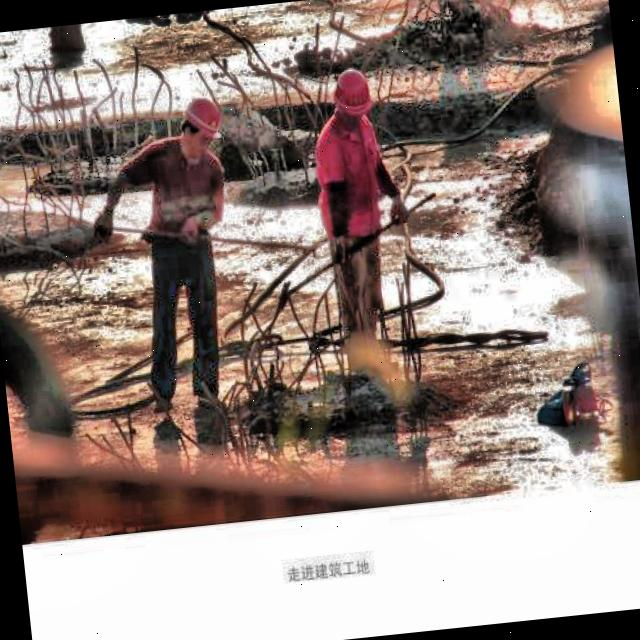helmet: (326, 62, 374, 132), (173, 96, 223, 160)
